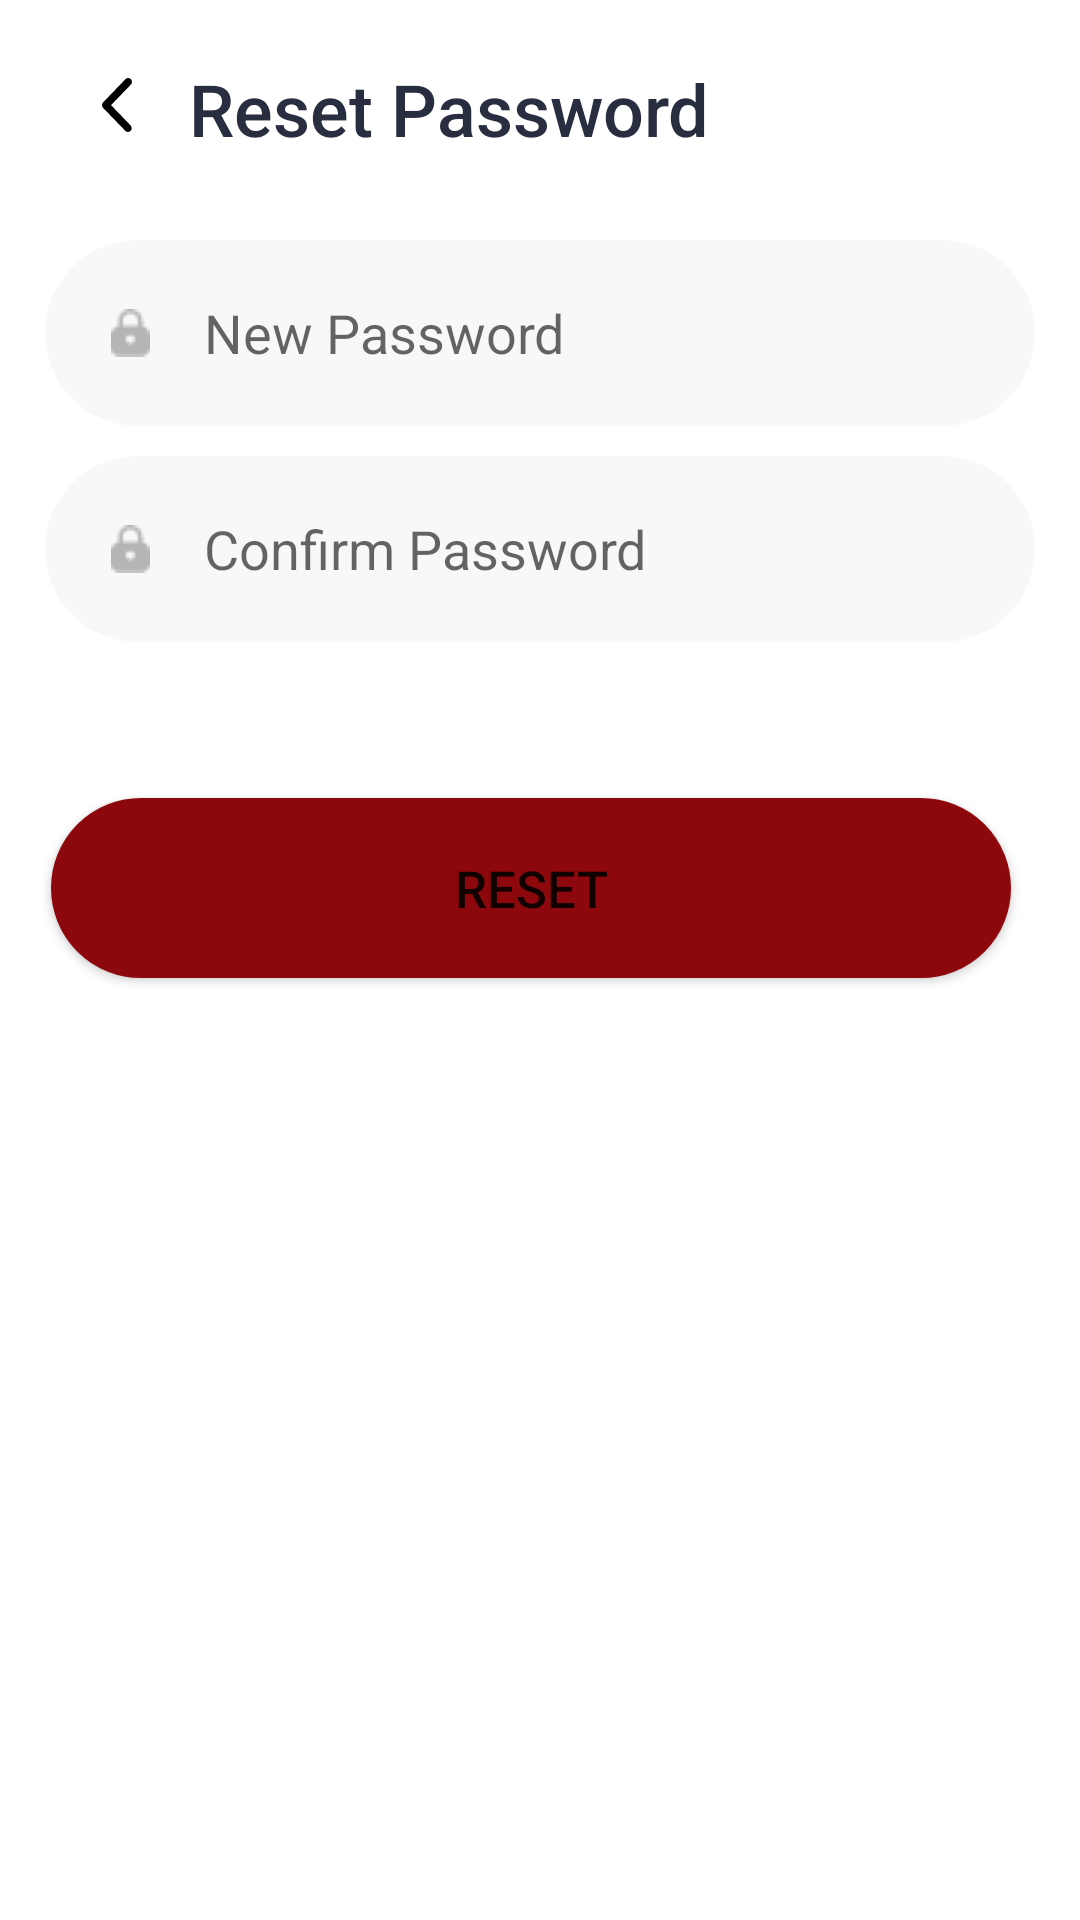

Icons on this 1080x1920 Android screen, each with the point to tap as (x,y):
arrowback: (117,105)
